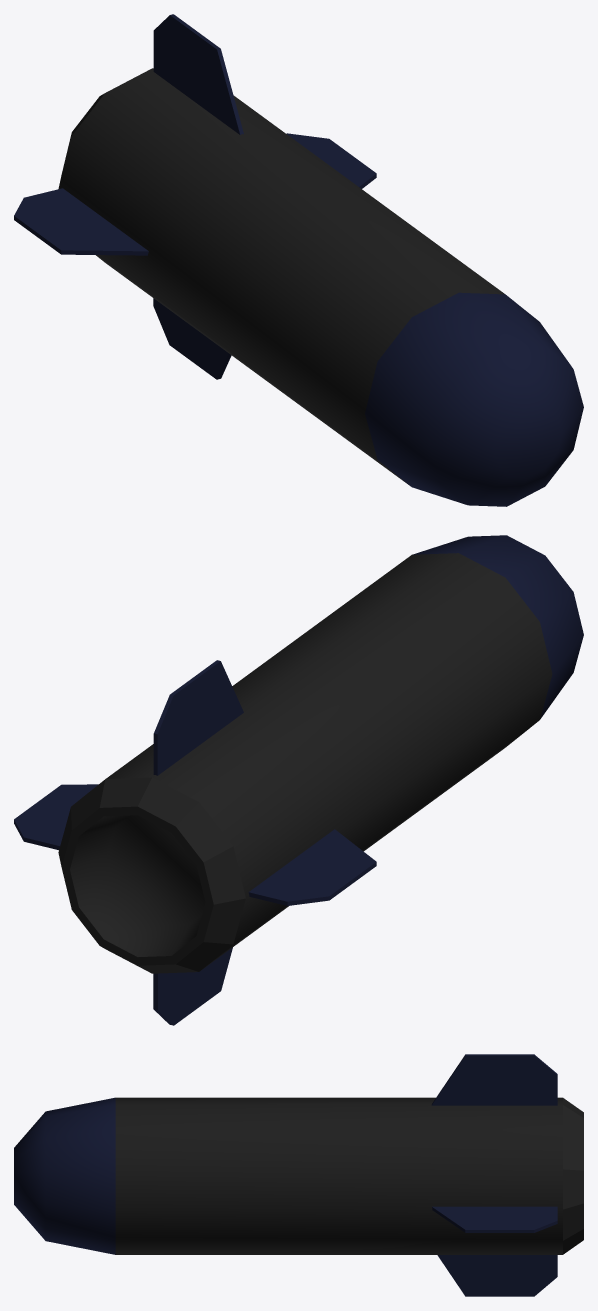
Rendered from missile02.FBX.
3 renders of one model, top to bottom at view 1: azimuth 30°, elevation 25°; view 2: azimuth 150°, elevation 25°; view 3: azimuth 270°, elevation 25°, orthographic. The views are drawn at different scales.
Parts seen in each view (by area): view 1: missile02; view 2: missile02; view 3: missile02.
Boxes of the visible parts, x1,y1,x2,y2 form: missile02: (14,14,583,506); missile02: (14,535,583,1025); missile02: (14,1054,583,1296).
Size of the model in its own units: 67.27 by 67.27 by 144.
